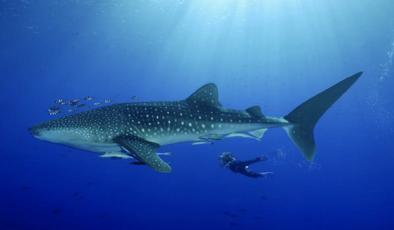Shark -Selachimorpha-: (23, 68, 366, 178)
